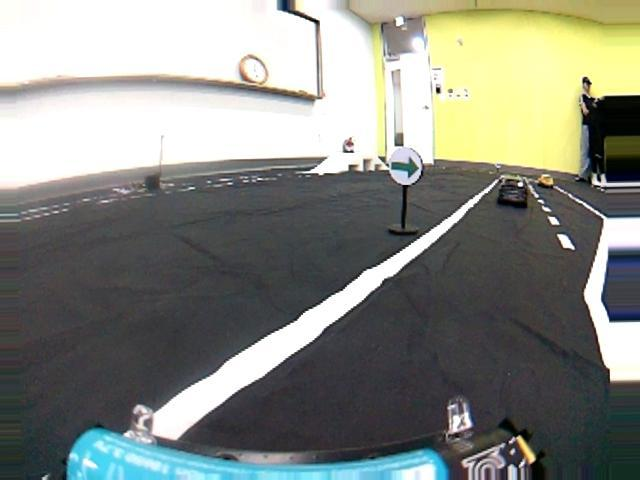car: (495, 177, 531, 209), (537, 173, 554, 189)
sign_right: (386, 143, 425, 186)
straight: (6, 187, 640, 474)
